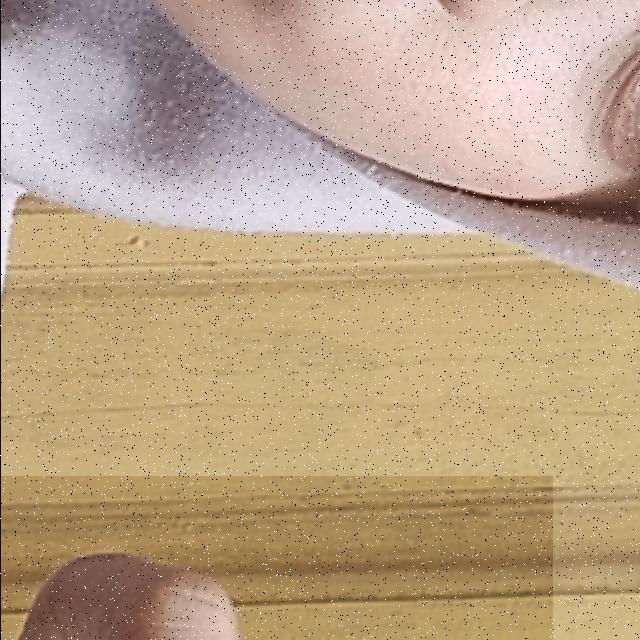baik: (0, 476, 552, 640)
